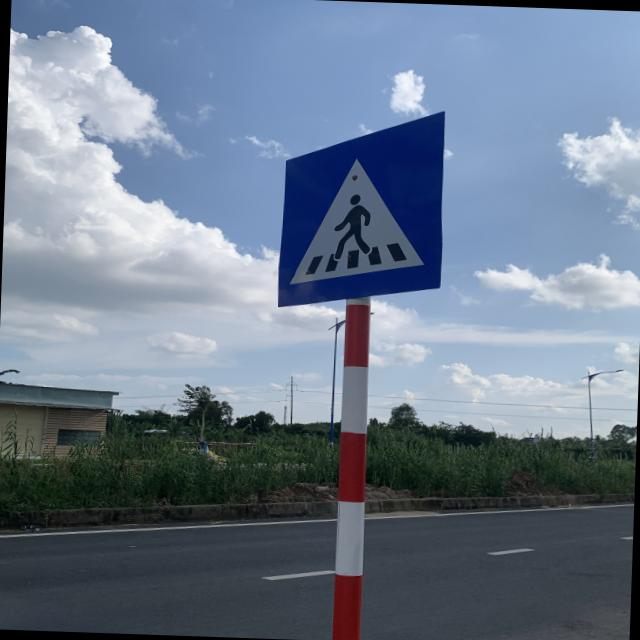Giao_Nhau_Duong_Uu_Tien: (277, 105, 448, 311)
